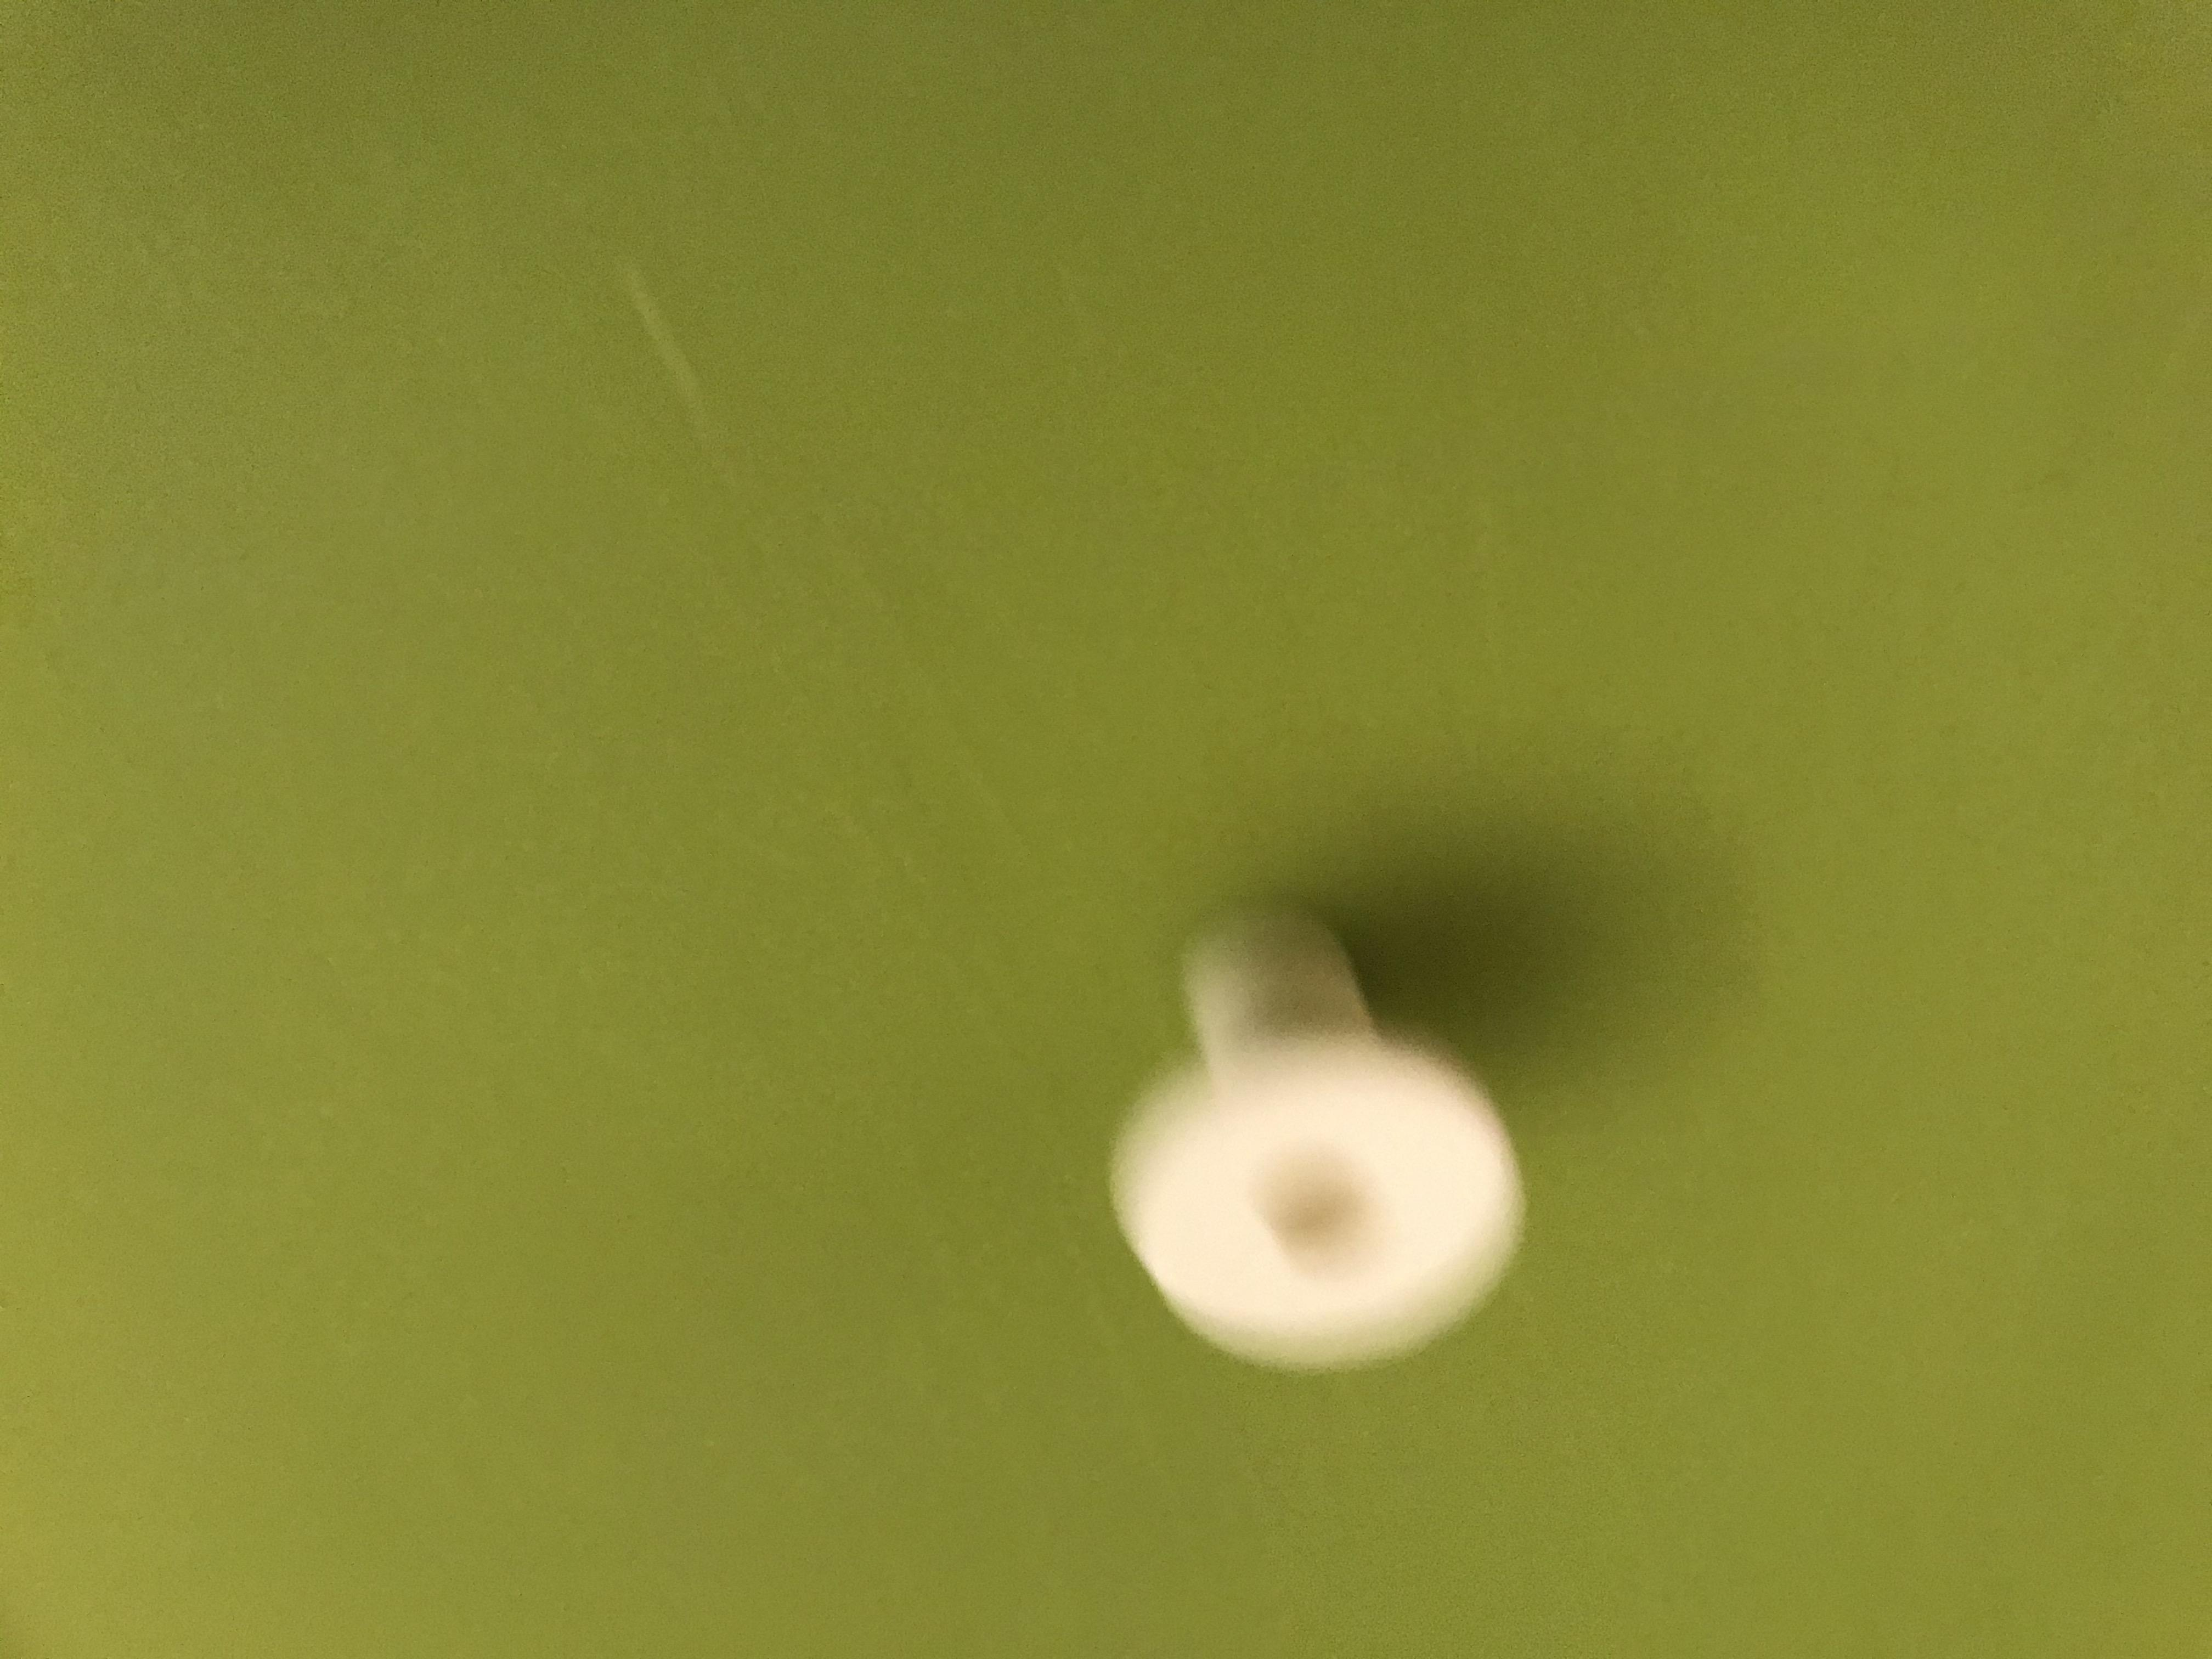White Cone: (1078, 917, 1527, 1371)
